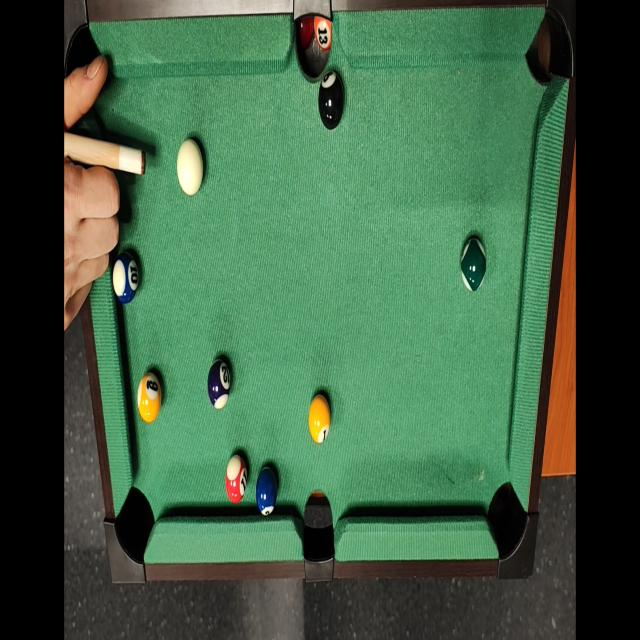cue ball: (174, 136, 204, 198)
other: (317, 64, 347, 134), (457, 230, 489, 294), (134, 368, 164, 426), (111, 254, 142, 308), (203, 354, 233, 409), (306, 391, 334, 449), (253, 463, 279, 522), (222, 451, 250, 503)
